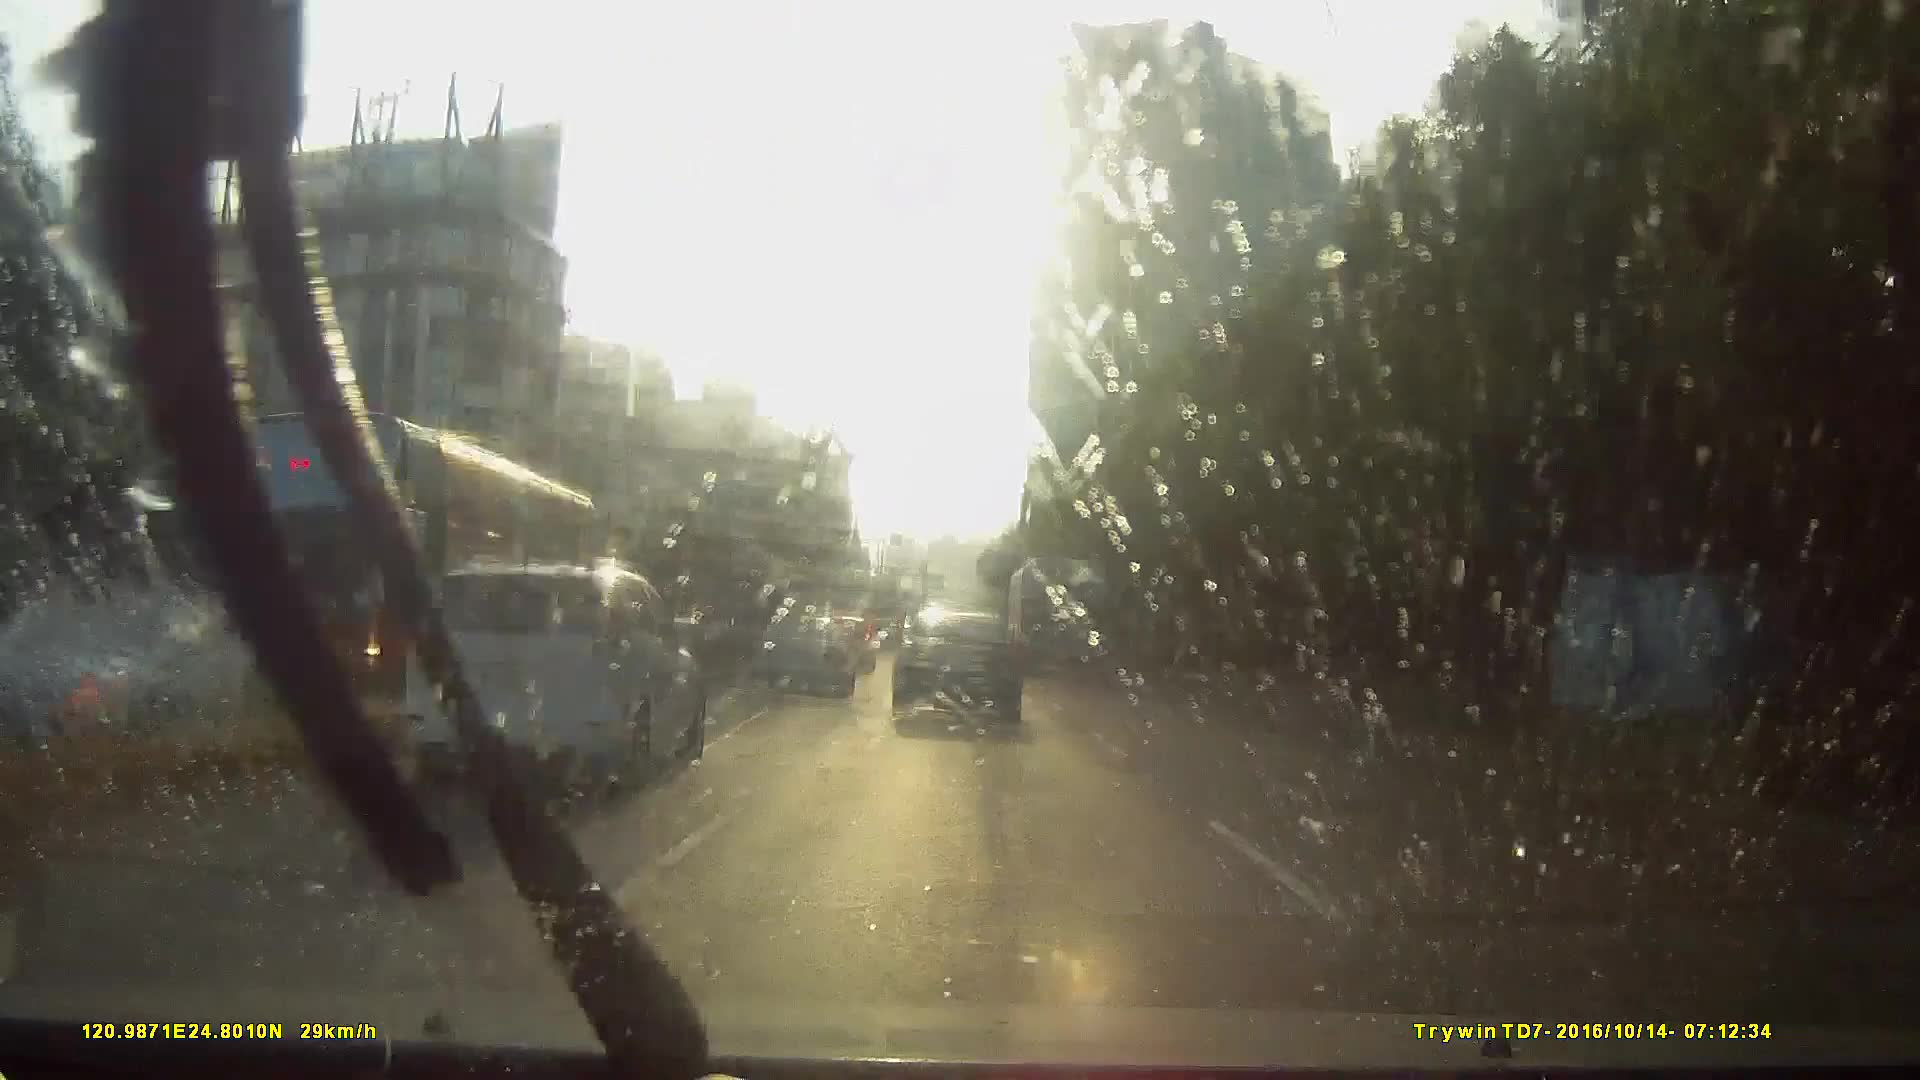vehicle: (146, 401, 626, 737), (251, 556, 684, 868), (404, 567, 708, 795), (0, 597, 245, 752), (891, 612, 1022, 737), (1005, 564, 1110, 691), (746, 626, 853, 713), (866, 638, 915, 687)
